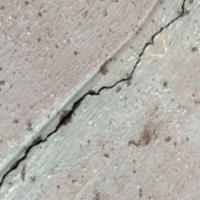crack: (0, 0, 196, 194)
